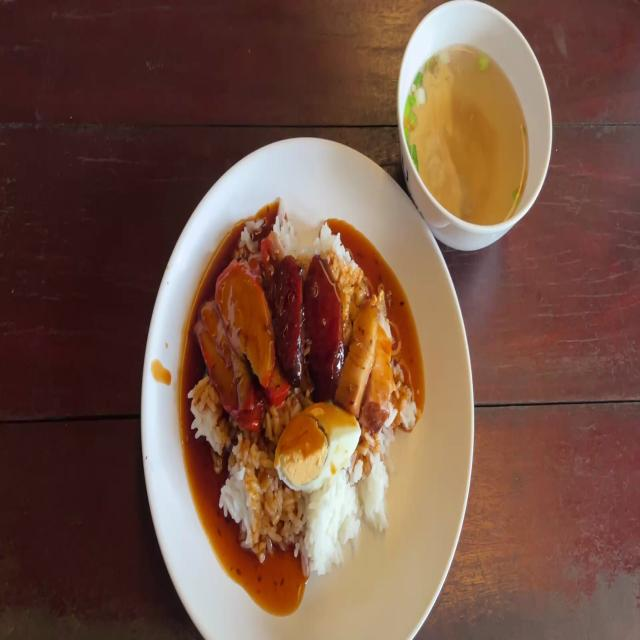01boiled_egg: (272, 401, 367, 492)
01chainese_sausage: (276, 256, 339, 386)
01crispy_pork: (347, 292, 390, 425)
01red_pork: (201, 264, 271, 421)
01red_pork_and_crispy_pork: (192, 207, 420, 574)
